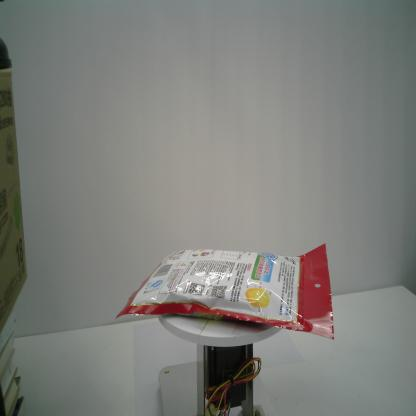Instant Drink: (114, 240, 337, 343)
